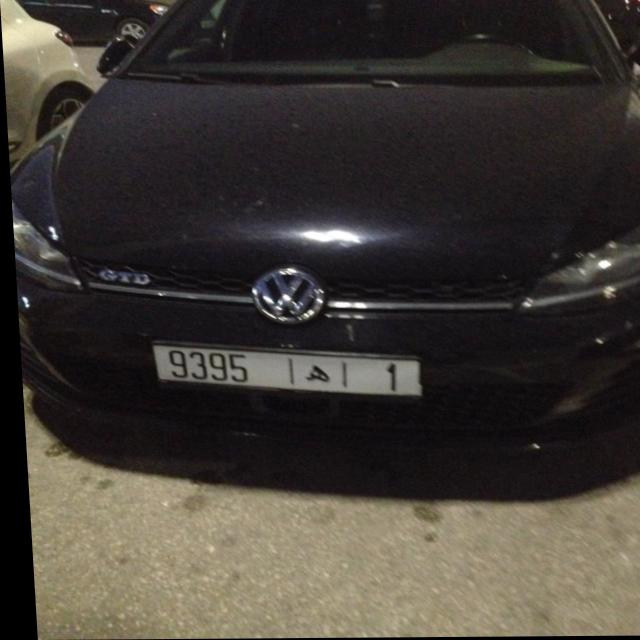License-Plate: (148, 344, 417, 396)
